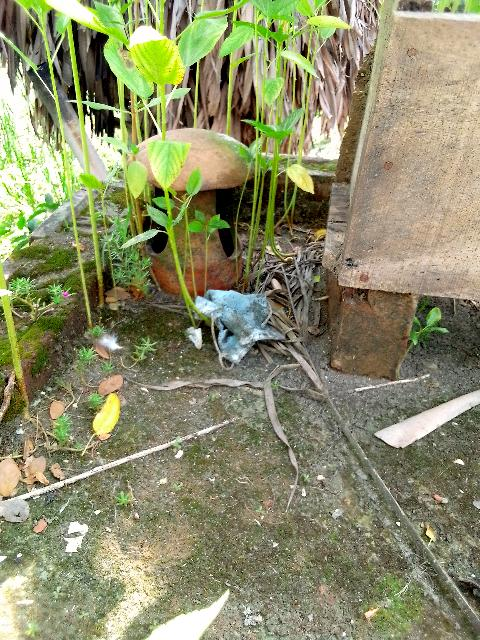mask: (207, 260, 296, 371)
